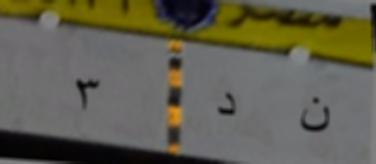3: (68, 68, 109, 118)
daal: (210, 82, 244, 126)
noon: (289, 92, 339, 139)
